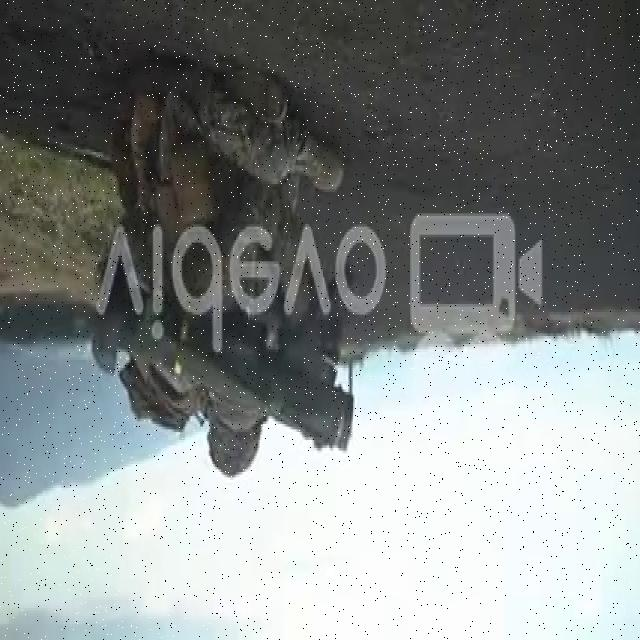bazooka: (88, 246, 358, 468)
